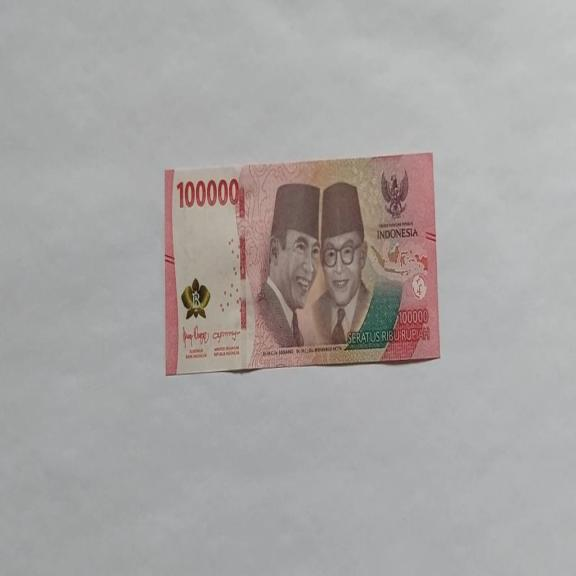Kertas: (163, 151, 441, 375), (175, 176, 240, 210)
